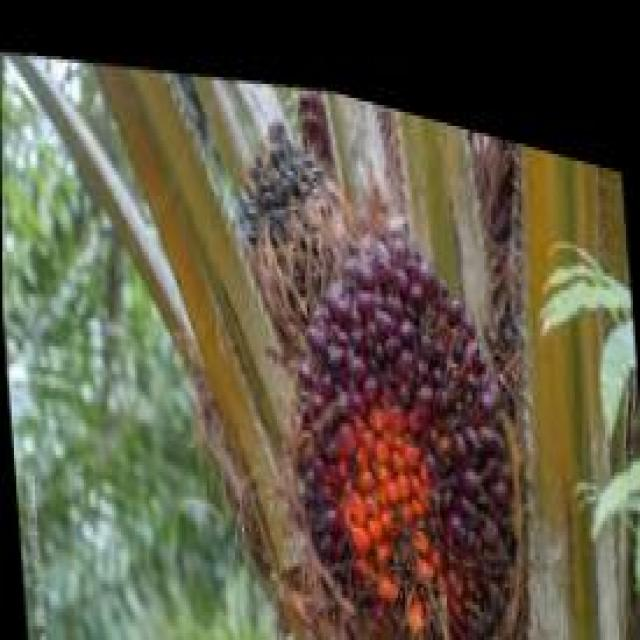Ripefruit: (269, 164, 525, 640)
